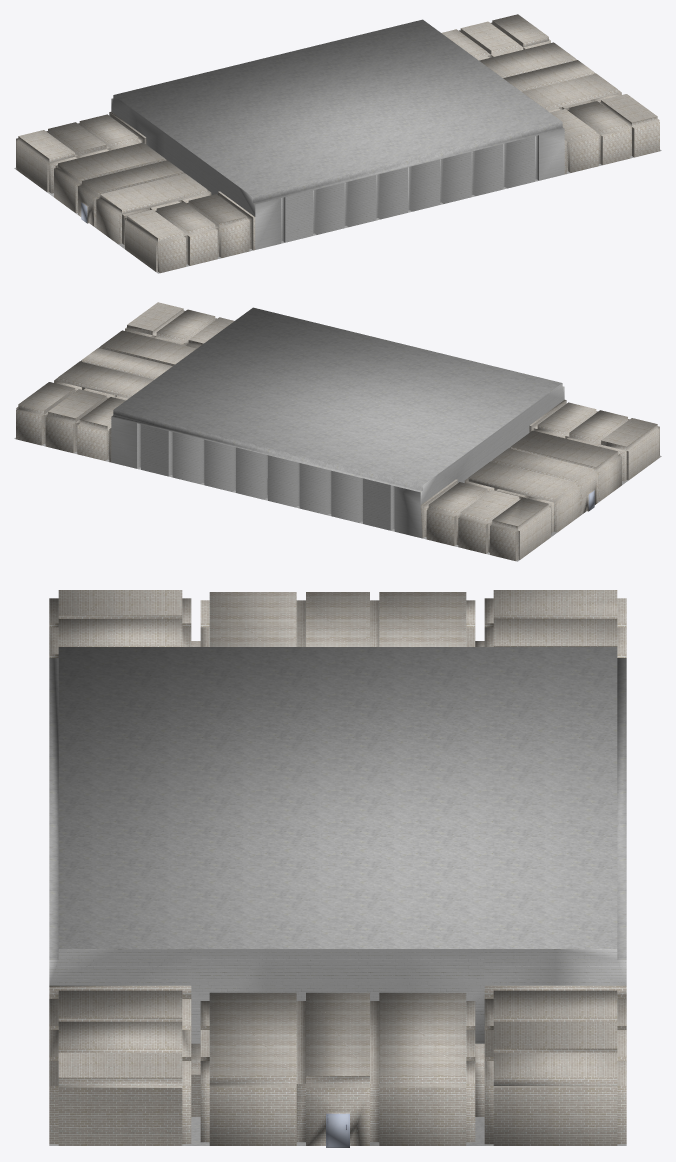
Rendered from Poligone.fbx.
The picture shows the model from 3 angles, top to bottom: view 1: azimuth 30°, elevation 25°; view 2: azimuth 150°, elevation 25°; view 3: azimuth 270°, elevation 25°; orthographic projection. The views are drawn at different scales.
Parts seen in each view (by area): view 1: Main; view 2: Main; view 3: Main.
Part boxes in pixels (x1=…): Main: x1=14, y1=14, x2=661, y2=273; Main: x1=14, y1=302, x2=661, y2=561; Main: x1=49, y1=590, x2=626, y2=1147.
Bounding box in the file's own units: 7007 × 674 × 3450.
Materials: 6 (6 with a texture image).
